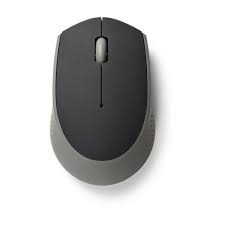mouse: (43, 13, 159, 187)
